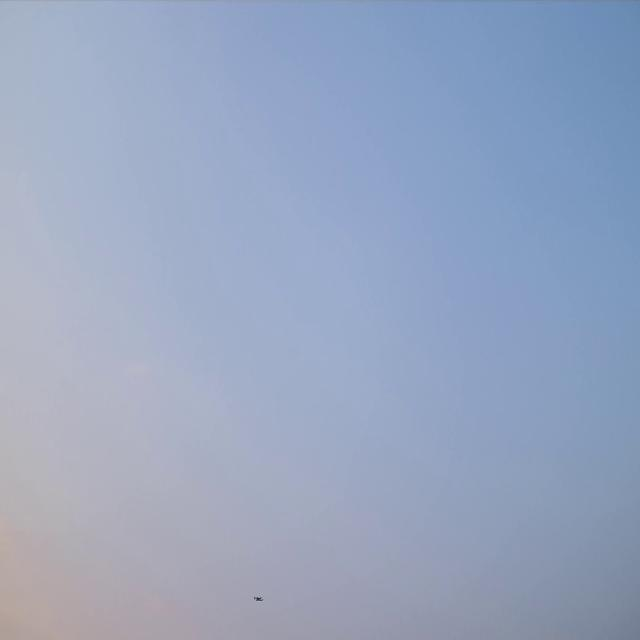UAV: (254, 596, 264, 601)
